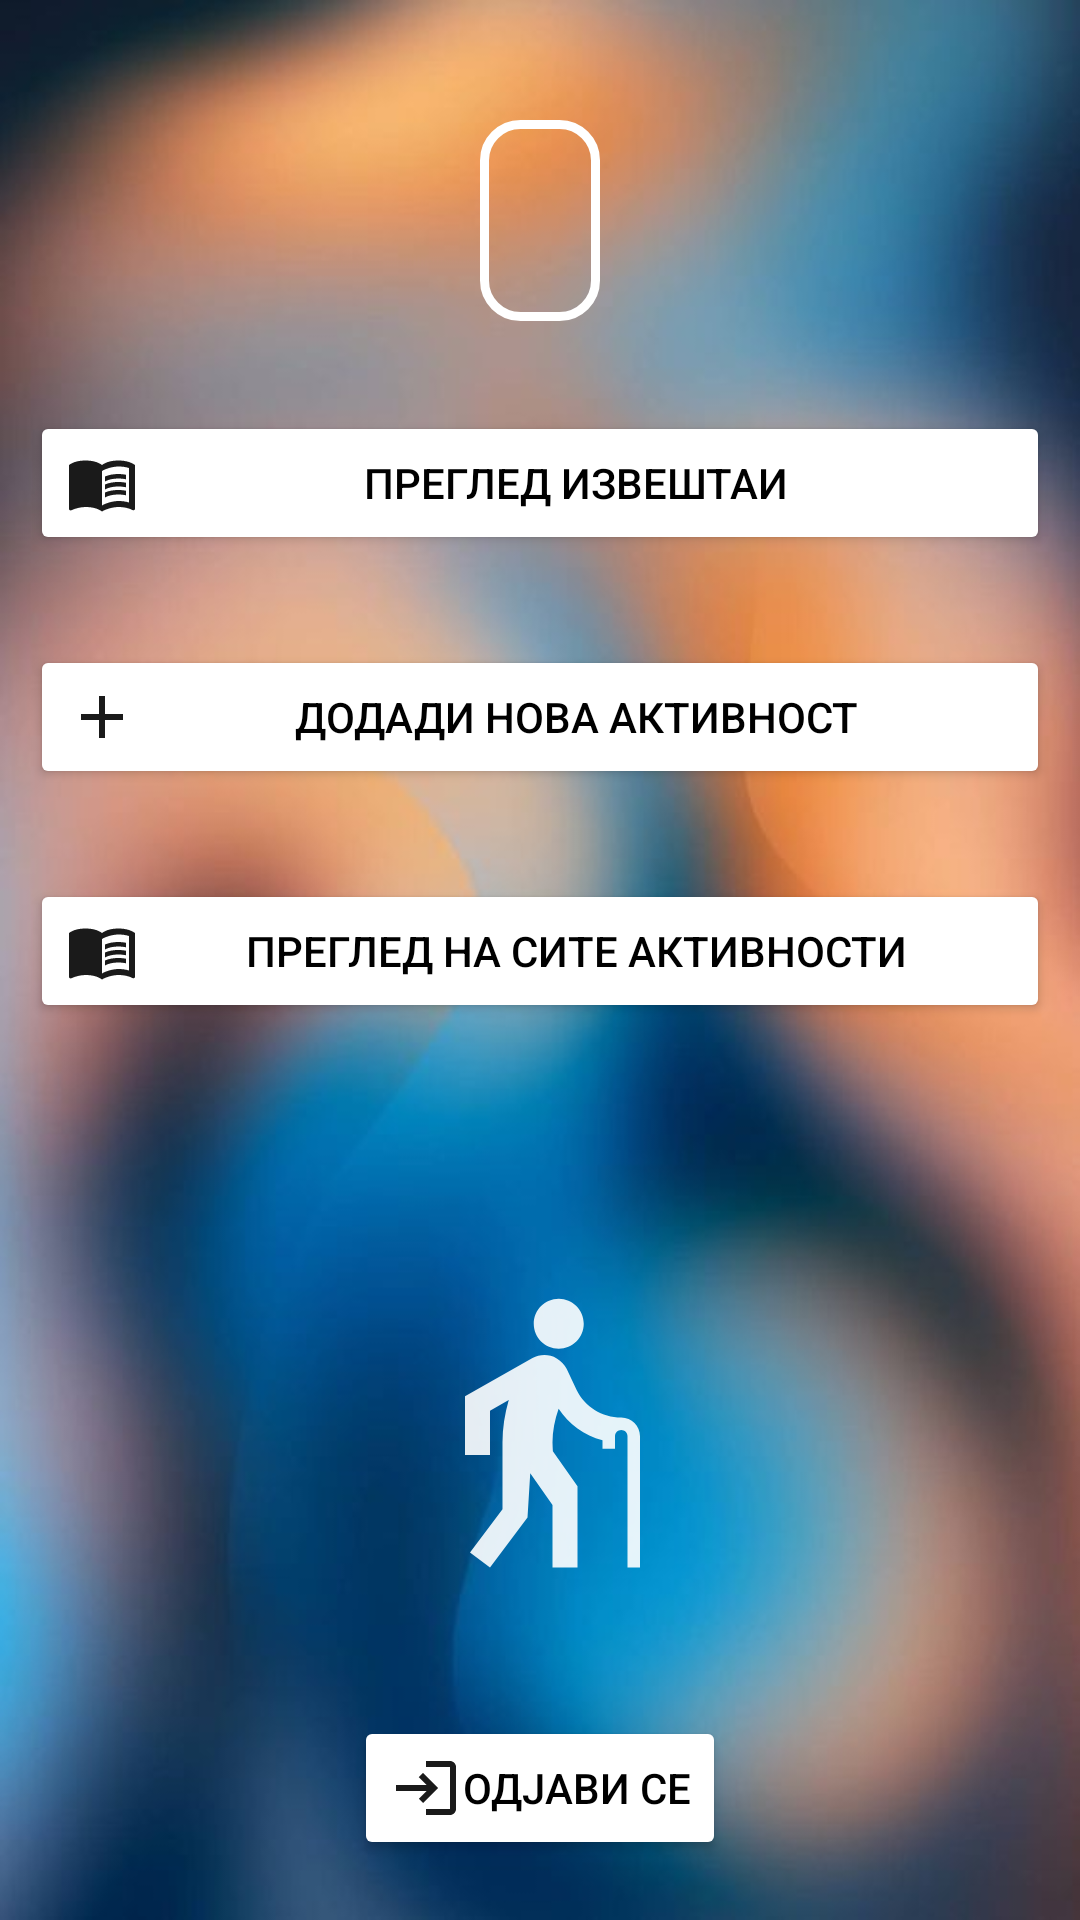

Icons on this 1080×1920 Android screen, each with the point to tap as [x,y]:
elderly: [540,1430]
